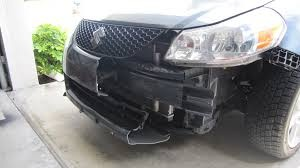Smashed: (93, 28, 300, 149)
